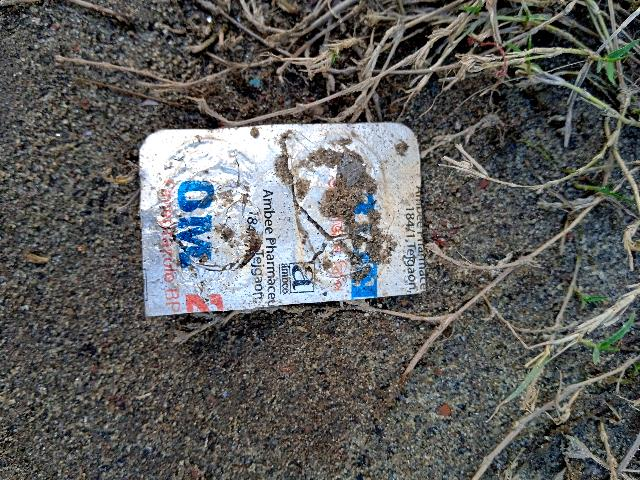medicine: (133, 113, 425, 313)
